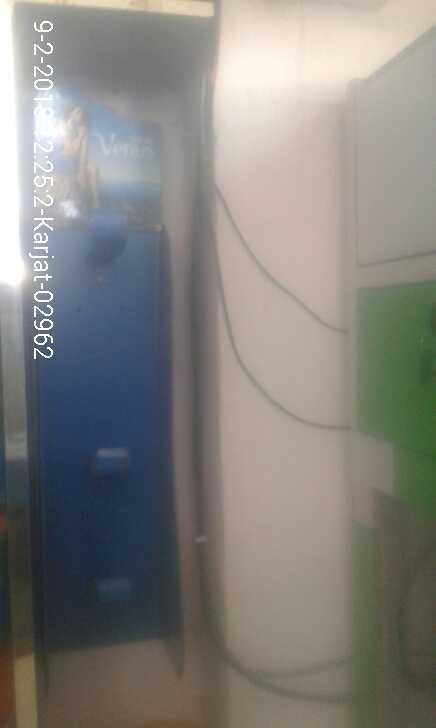reject: (95, 294, 163, 407)
